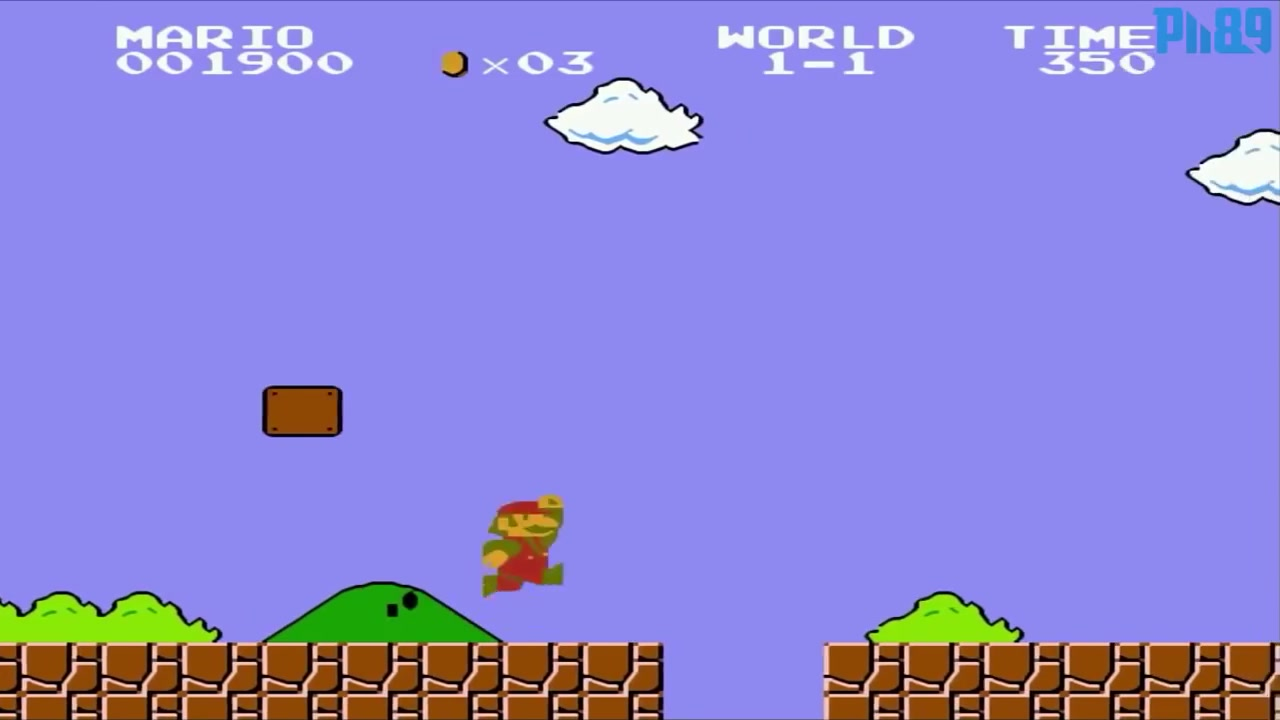mario: (470, 487, 573, 609)
